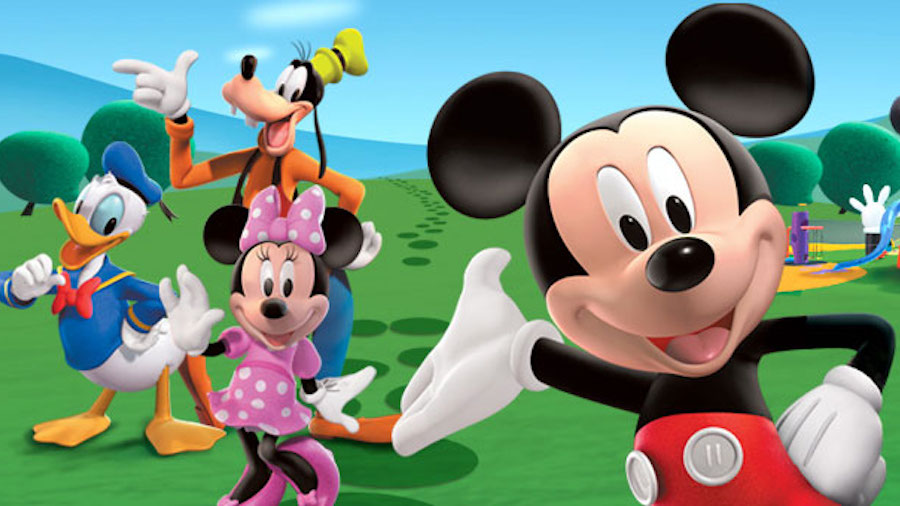Mickey: (422, 6, 820, 381)
